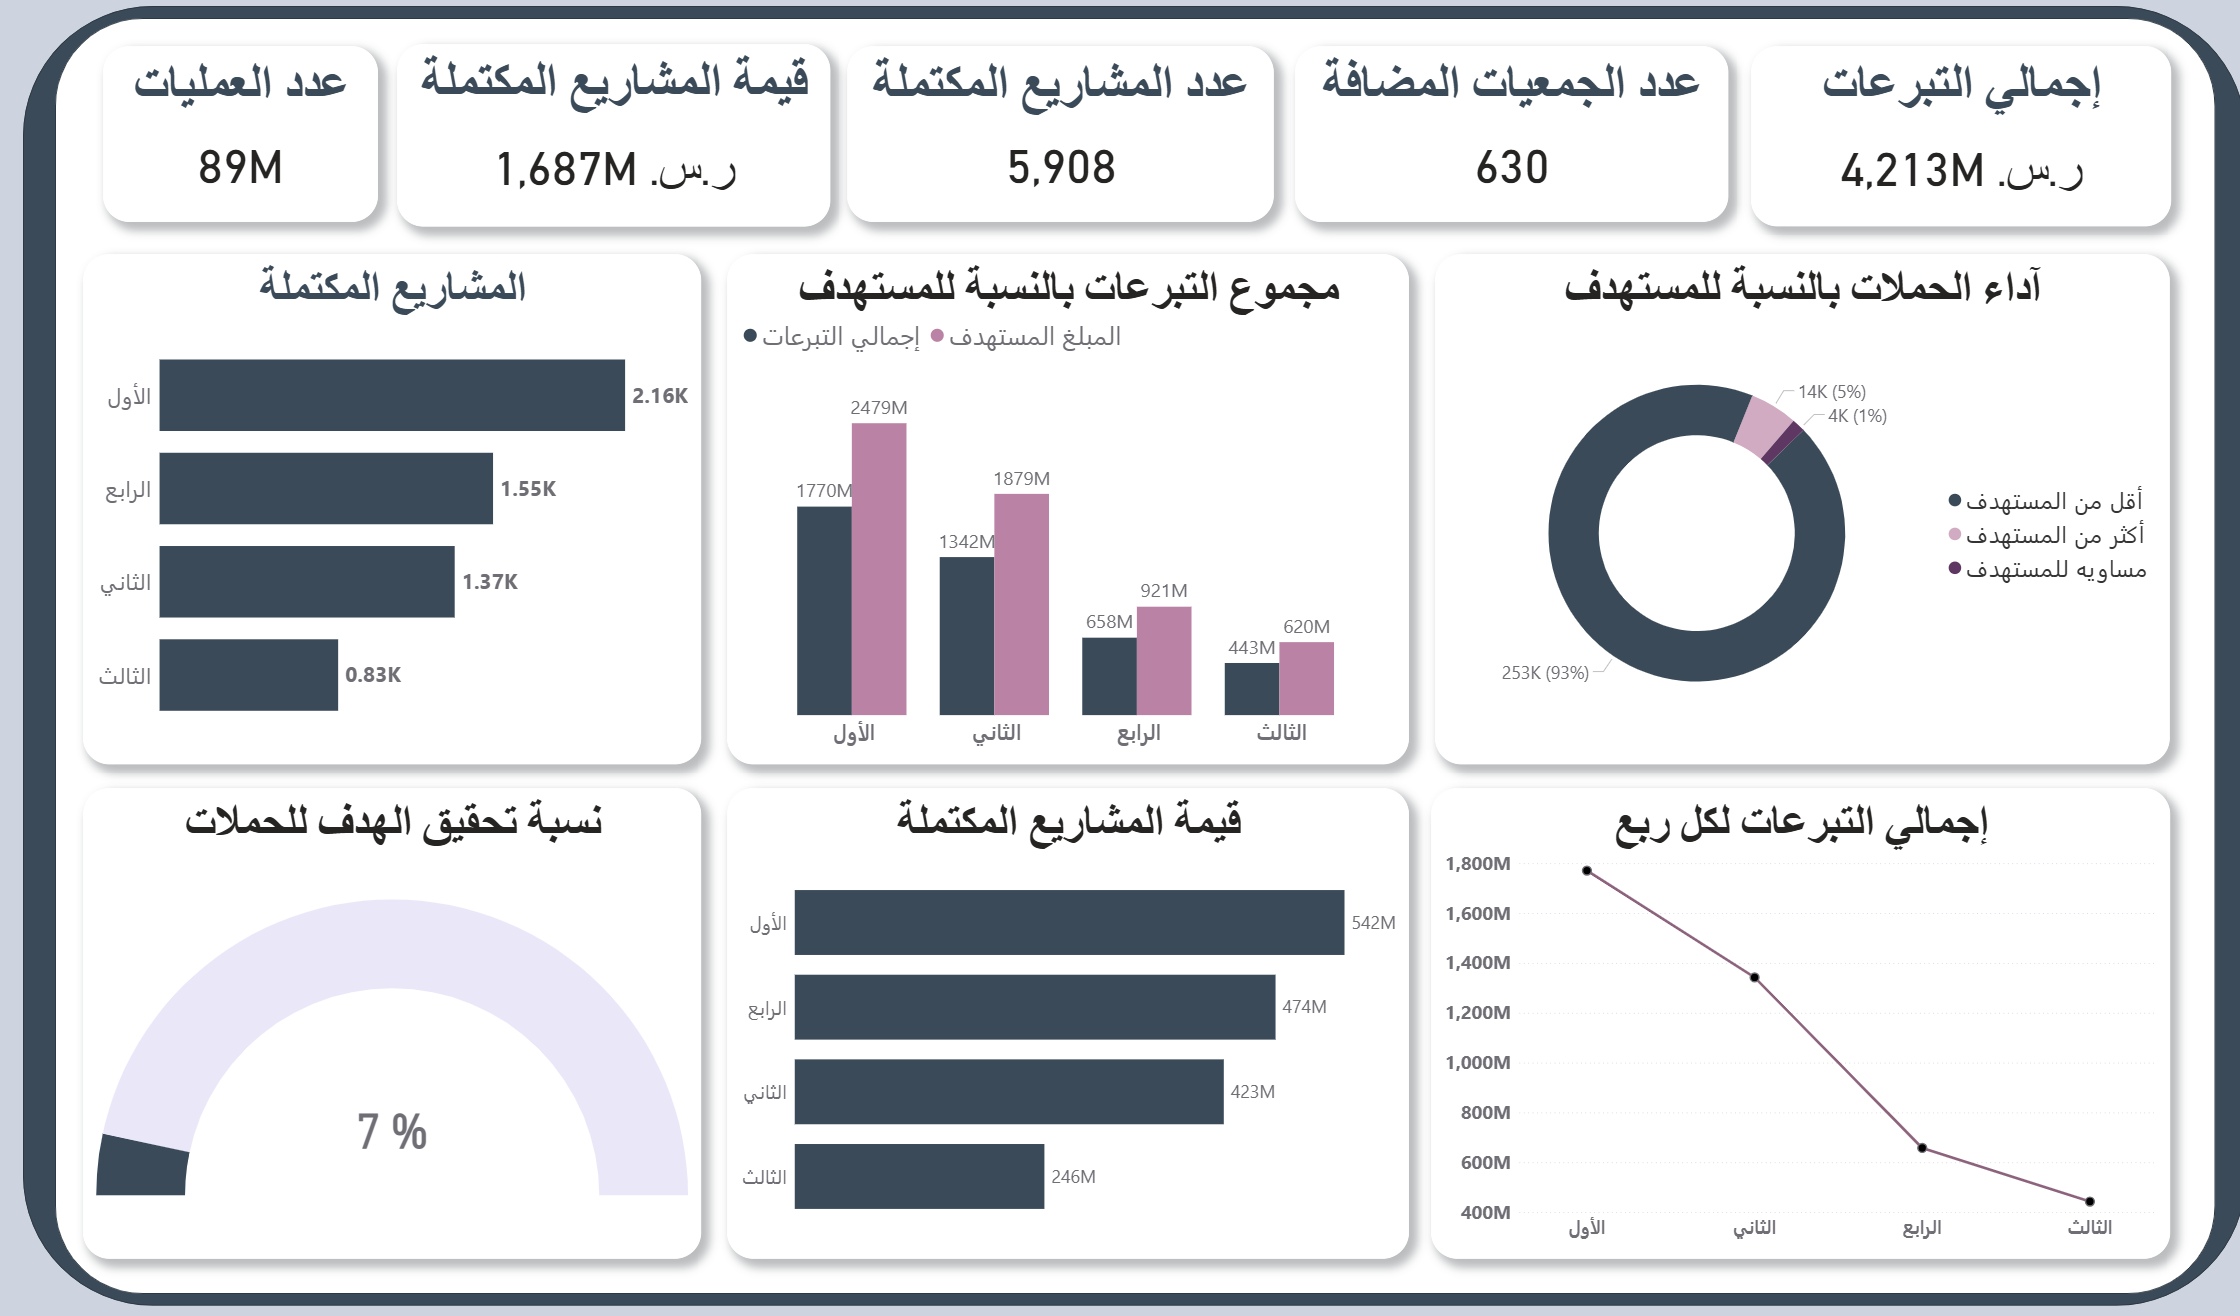

What the dashboard file says about the page in this screenshot:
{"tool":"powerbi","page":{"name":"Page ١","canvas":[2560,1501],"ordinal":0},"visuals":[{"type":"shape","box":[26.3,11,2526.5,1476.9],"z":0},{"type":"shape","box":[62.5,25,2455,1450],"z":1000},{"type":"card","title":"إجمالي التبرعات","fields":{"Values":["Sum(QuarterlyDonationCollection forEhsan Platform2024.إجمالي التبرعات)"]},"box":[1990,57.5,477.5,205],"z":2000},{"type":"card","title":"عدد العمليات","fields":{"Values":["Sum(QuarterlyDonationCollection forEhsan Platform2024.عدد العمليات)"]},"box":[117.5,57.5,312.5,200],"z":3000},{"type":"card","title":"عدد الجمعيات المضافة","fields":{"Values":["Sum(QuarterlyDonationCollection forEhsan Platform2024.عدد الجمعيات المضافة)"]},"box":[1472.5,57.5,492.5,200],"z":4000},{"type":"card","title":"عدد المشاريع المكتملة","fields":{"Values":["Sum(QuarterlyDonationCollection forEhsan Platform2024.عدد المشاريع المكتملة)"]},"box":[962.5,57.5,485,200],"z":5000},{"type":"card","title":"قيمة المشاريع المكتملة","fields":{"Values":["Sum(QuarterlyDonationCollection forEhsan Platform2024.قيمة المشاريع المكتملة)"]},"box":[452.5,55,492.5,207.5],"z":6000},{"type":"clusteredBarChart","title":"المشاريع المكتملة","fields":{"Category":["QuarterlyDonationCollection forEhsan Platform2024.الربع"],"Y":["Sum(QuarterlyDonationCollection forEhsan Platform2024.عدد المشاريع المكتملة)"]},"box":[95,292.5,702.5,580],"z":7000},{"type":"donutChart","title":"آداء الحملات بالنسبة للمستهدف","fields":{"Y":["Sum(QuarterlyDonationCollection forEhsan Platform2024.عدد الحملات مجموع التبرعات أقل من المستهدف)","Sum(QuarterlyDonationCollection forEhsan Platform2024.عدد الحملات مجموع التبرعات أكثر من المستهدف)","Sum(QuarterlyDonationCollection forEhsan Platform2024.عدد الحملات مجموع التبرعات مساوي للمستهدف)"]},"box":[1632.5,292.5,835,580],"z":8000},{"type":"clusteredBarChart","title":"قيمة المشاريع المكتملة ","fields":{"Category":["QuarterlyDonationCollection forEhsan Platform2024.الربع"],"Y":["Sum(QuarterlyDonationCollection forEhsan Platform2024.قيمة المشاريع المكتملة)"]},"box":[827.5,900,775,535],"z":9000},{"type":"lineChart","title":" إجمالي التبرعات لكل ربع","fields":{"Category":["QuarterlyDonationCollection forEhsan Platform2024.الربع"],"Y":["Sum(QuarterlyDonationCollection forEhsan Platform2024.إجمالي التبرعات)"]},"box":[1627.5,900,840,535],"z":10000},{"type":"gauge","title":"نسبة تحقيق الهدف للحملات","fields":{"Y":["QuarterlyDonationCollection forEhsan Platform2024.نسبة تحقيق الهدف 2"],"MinValue":["QuarterlyDonationCollection forEhsan Platform2024.Min Gauge"],"MaxValue":["QuarterlyDonationCollection forEhsan Platform2024.Max Gauge"]},"box":[95,900,702.5,535],"z":11000},{"type":"clusteredColumnChart","title":"مجموع التبرعات بالنسبة للمستهدف","fields":{"Category":["QuarterlyDonationCollection forEhsan Platform2024.الربع"],"Y":["Sum(QuarterlyDonationCollection forEhsan Platform2024.إجمالي التبرعات)","QuarterlyDonationCollection forEhsan Platform2024.المبلغ المستهدف"]},"box":[827.5,292.5,775,580],"z":12000}]}

Visuals, with their boxes in screenshot pixels (x1, y1, x2, y2), scaled from the page's 2560x1501 canvas onto the 2240x1316 screenshot:
shape: [23,10,2234,1305]
shape: [55,22,2203,1293]
"إجمالي التبرعات" card: [1741,50,2159,230]
"عدد العمليات" card: [103,50,376,226]
"عدد الجمعيات المضافة" card: [1288,50,1719,226]
"عدد المشاريع المكتملة" card: [842,50,1267,226]
"قيمة المشاريع المكتملة" card: [396,48,827,230]
"المشاريع المكتملة" clusteredBarChart: [83,256,698,765]
"آداء الحملات بالنسبة للمستهدف" donutChart: [1428,256,2159,765]
"قيمة المشاريع المكتملة " clusteredBarChart: [724,789,1402,1258]
" إجمالي التبرعات لكل ربع" lineChart: [1424,789,2159,1258]
"نسبة تحقيق الهدف للحملات" gauge: [83,789,698,1258]
"مجموع التبرعات بالنسبة للمستهدف" clusteredColumnChart: [724,256,1402,765]
